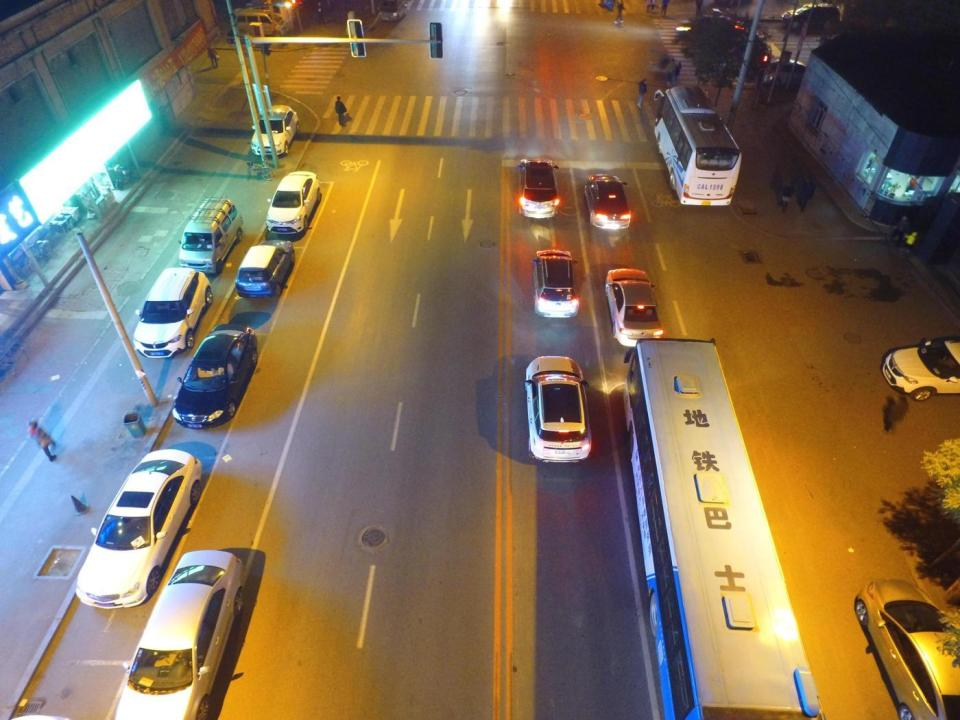bus: (624, 336, 821, 717), (651, 84, 745, 206)
car: (115, 549, 248, 719), (75, 449, 201, 608), (853, 576, 959, 720), (174, 324, 258, 428), (523, 355, 592, 462), (134, 267, 212, 358), (880, 337, 960, 402), (180, 198, 242, 274), (606, 270, 662, 346), (236, 239, 295, 298), (269, 170, 320, 236), (533, 250, 580, 318), (515, 159, 560, 220), (250, 103, 299, 156), (584, 174, 630, 230), (756, 57, 808, 87), (782, 2, 838, 29), (379, 0, 406, 23)
van: (234, 9, 290, 37)
